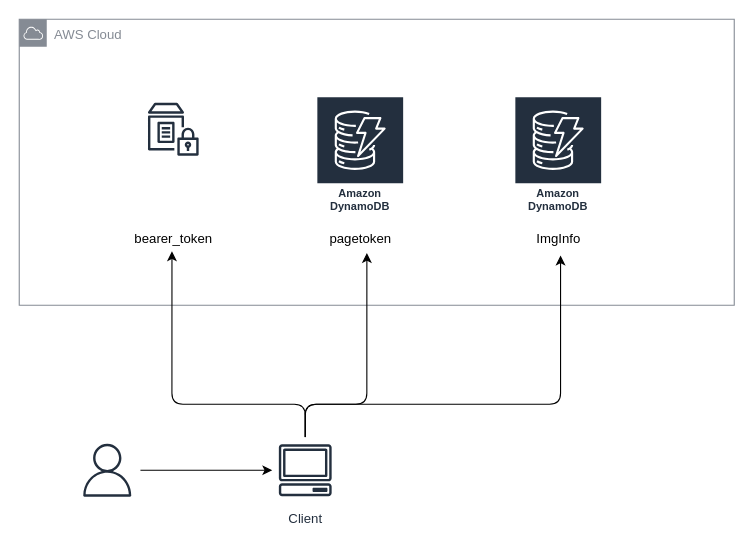
The diagram is 754 pixels wide and 546 high, and some of its shapes have lost their labels. The shapes that lost their labels are listed below. From the top down, each one's centre as x and y in pixels, then its label:
At [172,128]: "Parameter Store".
At [106,469]: "User".
